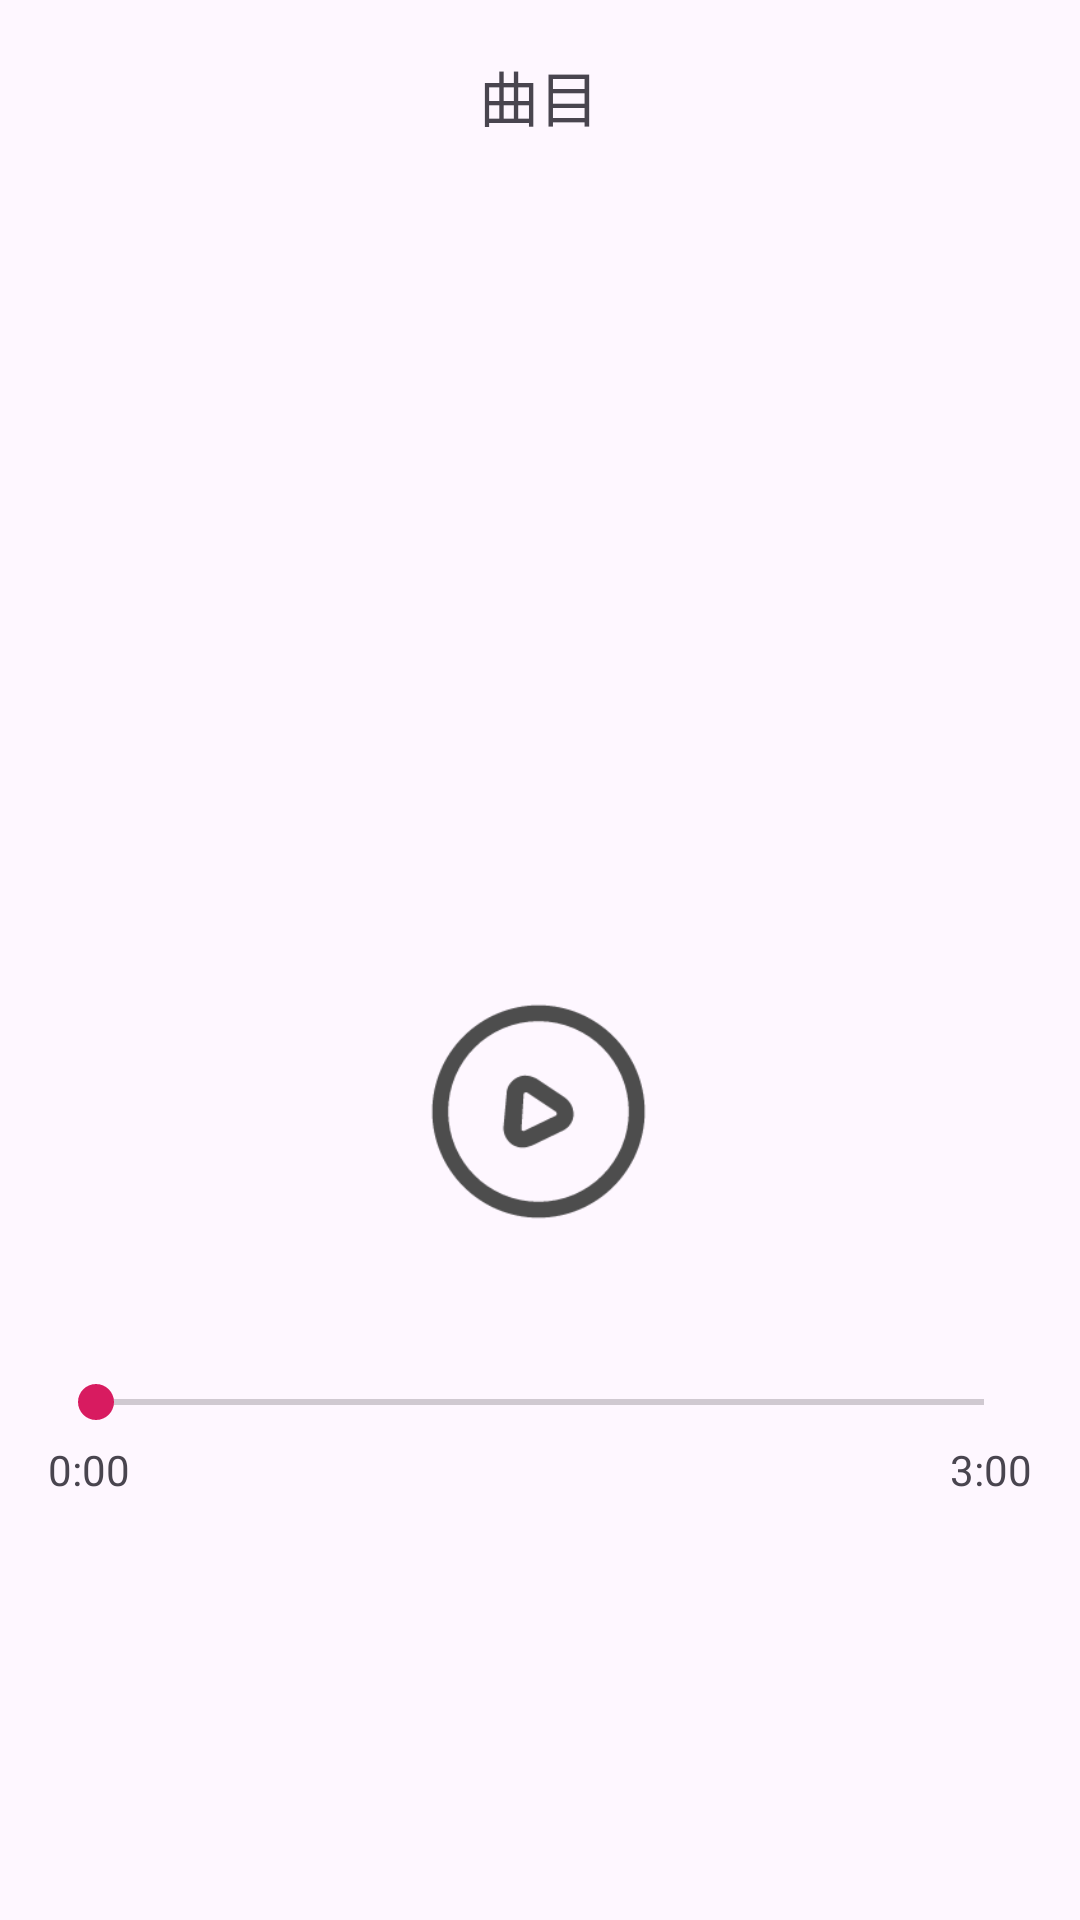

Named icons in this screenshot (1080w x 1920h) and their bounding boxes, (x1, y1, x2, y2):
播放: (431, 1004, 646, 1219)
